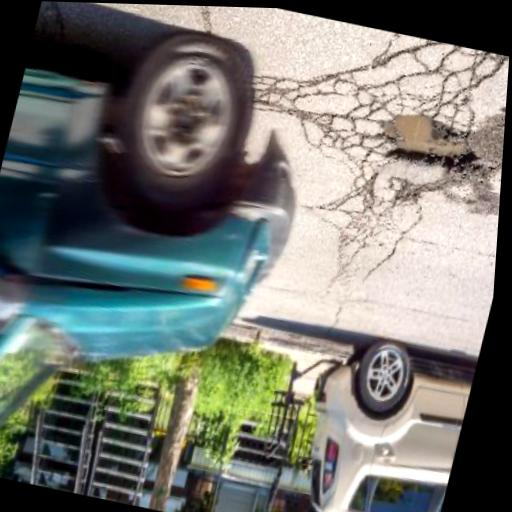pothole: (372, 109, 488, 180)
